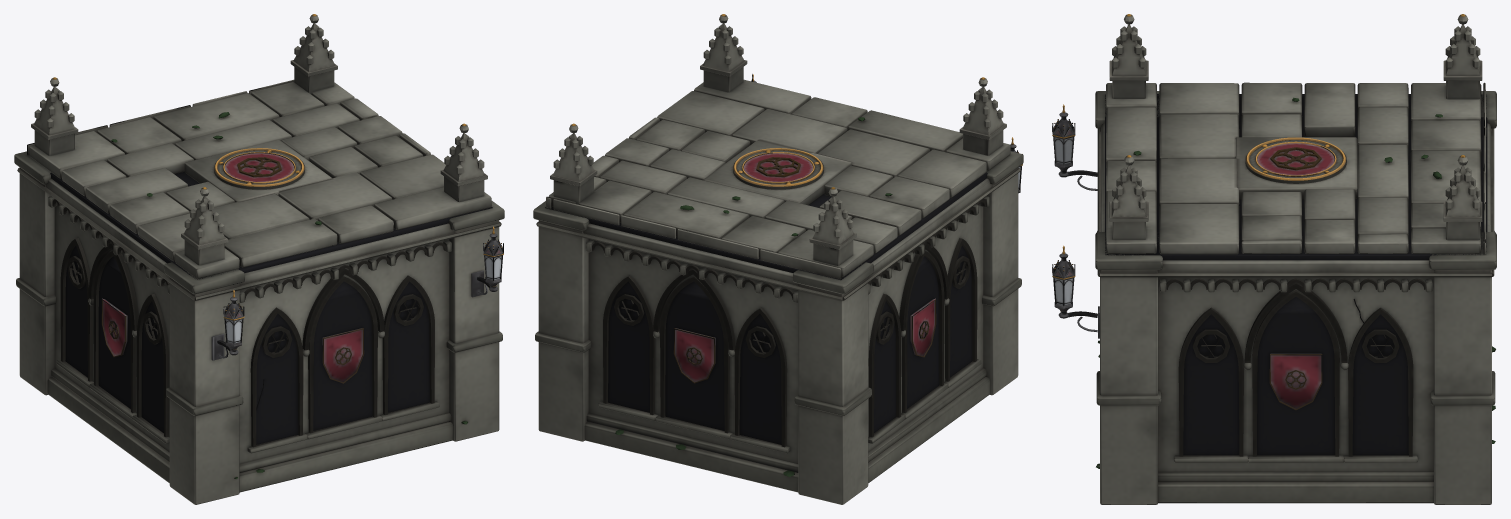
Rendered from StairLanding.fbx.
The picture shows the model from 3 angles, left to right: view 1: azimuth 30°, elevation 25°; view 2: azimuth 150°, elevation 25°; view 3: azimuth 270°, elevation 25°; orthographic projection. The views are drawn at different scales.
Parts seen in each view (by area): view 1: StairLanding_Main, StairLanding_Floor, StairLanding_Faces, StairLanding_Lamps, StairLanding_Glass; view 2: StairLanding_Main, StairLanding_Floor, StairLanding_Faces; view 3: StairLanding_Main, StairLanding_Floor, StairLanding_Faces, StairLanding_Lamps, StairLanding_Glass.
Part boxes in pixels (<box>): StairLanding_Main: <box>14,14,504,504</box>; StairLanding_Floor: <box>27,79,492,279</box>; StairLanding_Faces: <box>48,196,451,453</box>; StairLanding_Lamps: <box>211,290,244,360</box>; StairLanding_Glass: <box>225,256,501,343</box>; StairLanding_Main: <box>533,14,1023,504</box>; StairLanding_Floor: <box>545,79,1010,280</box>; StairLanding_Faces: <box>586,196,989,453</box>; StairLanding_Main: <box>1052,14,1496,504</box>; StairLanding_Floor: <box>1105,82,1487,260</box>; StairLanding_Faces: <box>1159,278,1432,462</box>; StairLanding_Lamps: <box>1052,104,1097,190</box>; StairLanding_Glass: <box>1054,137,1072,305</box>.
Bounding box in the file's own units: 830 × 771 × 919.
